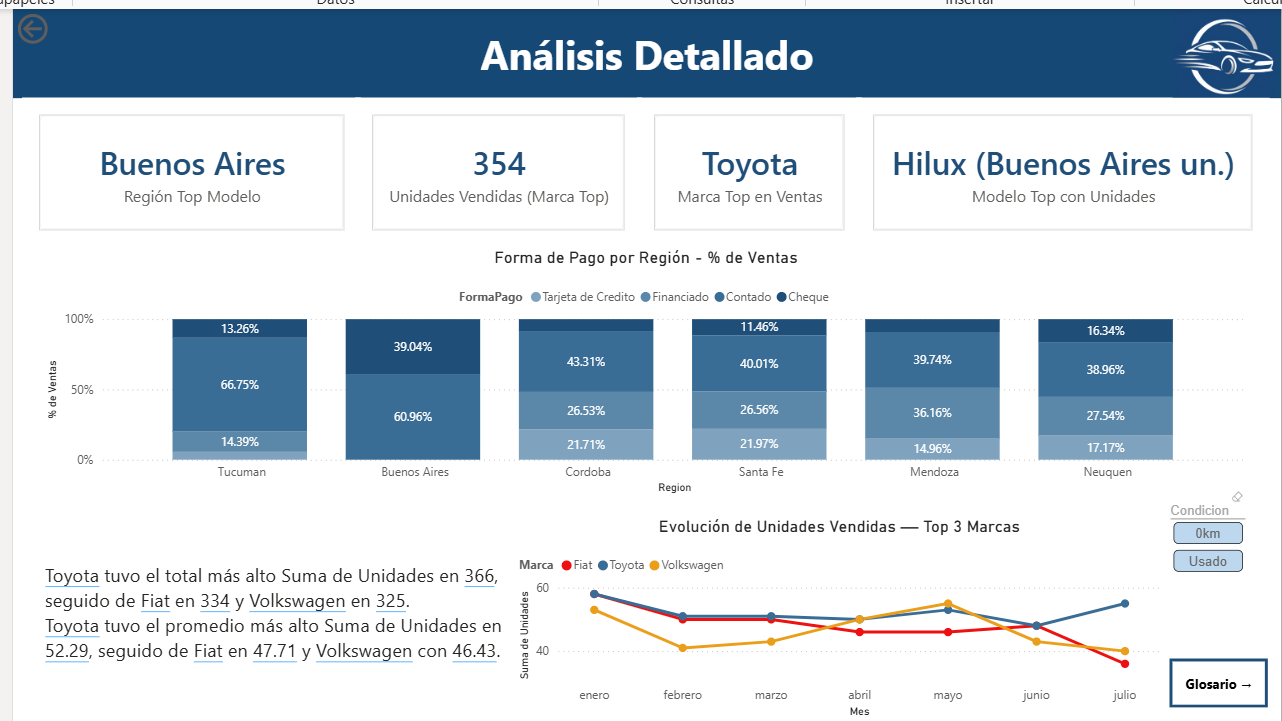

Layout of this report page (visuals, bound fields, positions):
{"tool":"powerbi","page":{"name":"Análisis Detallado","canvas":[1280,720],"ordinal":2},"visuals":[{"type":"actionButton","box":[1167.8,656,99.3,49.6],"z":0},{"type":"shape","box":[0,0,1280,90],"z":1000},{"type":"hundredPercentStackedColumnChart","title":"Forma de Pago por Región - % de Ventas","fields":{"Category":["Vendedores.Region"],"Series":["Ventas.FormaPago"],"Y":["Medidas.Total Ventas (Millones ARS)"]},"box":[28.3,240,1220.8,253.2],"z":2000},{"type":"actionButton","box":[0,0,100,40],"z":3000},{"type":"cardVisual","fields":{"Data":["Medidas.Comision Vendedor"]},"box":[9.4,88.8,342,151.2],"z":4000},{"type":"cardVisual","fields":{"Data":["Medidas.Comisión Promedio por Vendedor"]},"box":[345.8,88.8,289.1,151.2],"z":5000},{"type":"cardVisual","fields":{"Data":["Medidas.Marca Top en Ventas"]},"box":[629.3,88.8,226.8,151.2],"z":6000},{"type":"cardVisual","fields":{"Data":["Medidas.% Financiado o Tarjeta"]},"box":[850.4,88.8,417.6,151.2],"z":7000},{"type":"lineChart","title":"Evolución de Unidades Vendidas — Top 3 Marcas","fields":{"Category":["Calendario.Mes"],"Series":["Autos.Marca"],"Y":["Sum(Ventas.Unidades)"]},"box":[505.7,511.8,657.2,207.4],"z":8000},{"type":"image","box":[1167.5,0,112.1,89.3],"z":9000},{"type":"textbox","box":[27.3,552.7,478.5,166.6],"z":10000},{"type":"ChicletSlicer1448559807354","fields":{"Category":["Autos.Condicion"]},"box":[1162.9,480,86.3,98.4],"z":10001}]}

Visuals, with their boxes on the page's 1280x720 design canvas (x1, y1, x2, y2). These are canvas units, not pixel positions in the 1282x721 screenshot, which may show the page scaled, cropped or inside an application window:
actionButton: Rect(1168, 656, 1267, 706)
shape: Rect(0, 0, 1280, 90)
"Forma de Pago por Región - % de Ventas" hundredPercentStackedColumnChart: Rect(28, 240, 1249, 493)
actionButton: Rect(0, 0, 100, 40)
cardVisual - Medidas.Comision Vendedor: Rect(9, 89, 351, 240)
cardVisual - Medidas.Comisión Promedio por Vendedor: Rect(346, 89, 635, 240)
cardVisual - Medidas.Marca Top en Ventas: Rect(629, 89, 856, 240)
cardVisual - Medidas.% Financiado o Tarjeta: Rect(850, 89, 1268, 240)
"Evolución de Unidades Vendidas — Top 3 Marcas" lineChart: Rect(506, 512, 1163, 719)
image: Rect(1168, 0, 1280, 89)
textbox: Rect(27, 553, 506, 719)
ChicletSlicer1448559807354 - Autos.Condicion: Rect(1163, 480, 1249, 578)
